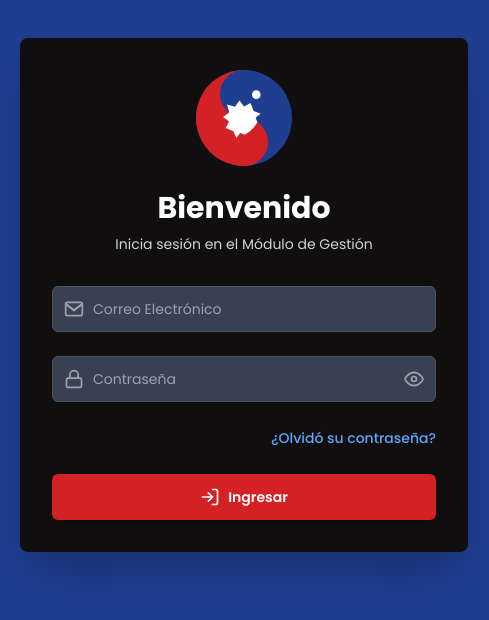
Test: Login Flow E2E › should display an error message for invalid credentials
The image size is (489, 620).
Type "nonexistentuser@example.com" into the field with id "email" at (244, 309), box [52, 286, 436, 332]
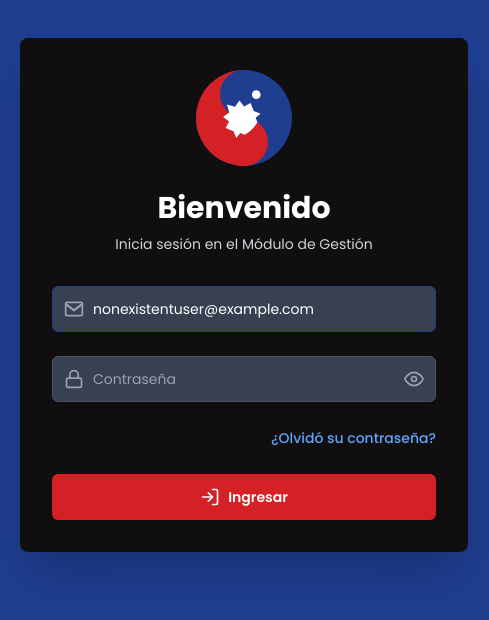
Type "wrongpassword" into the password field with id "contrasena" at (244, 379), box [52, 356, 436, 402]
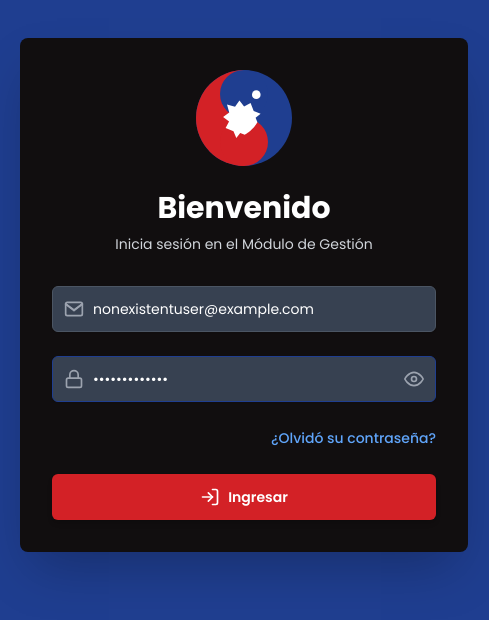
Click the submit button at (244, 497), box [52, 474, 436, 520]
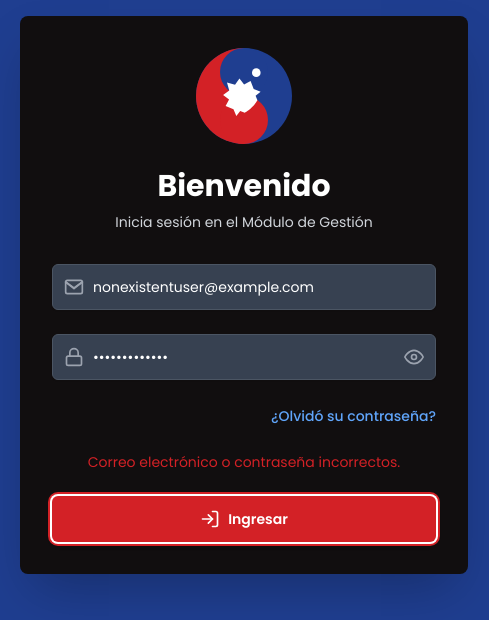
Result: the text "Correo electrónico o contraseña incorrectos" is shown at [88, 452, 401, 472]
